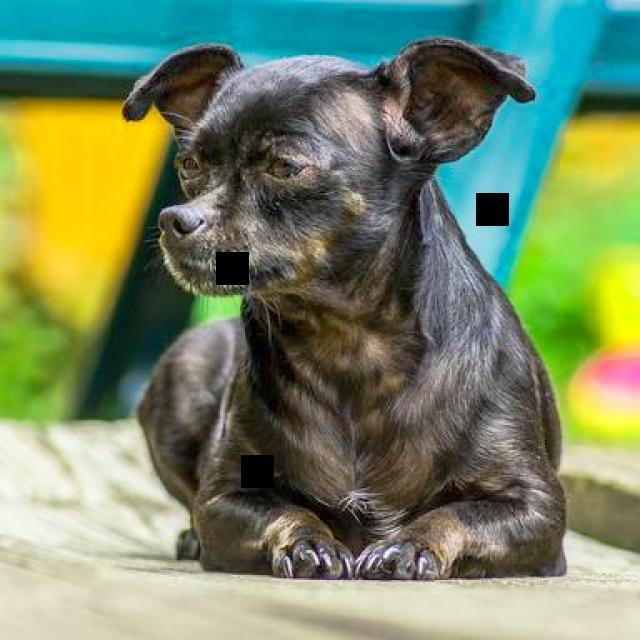adult_dog: (124, 39, 566, 578)
